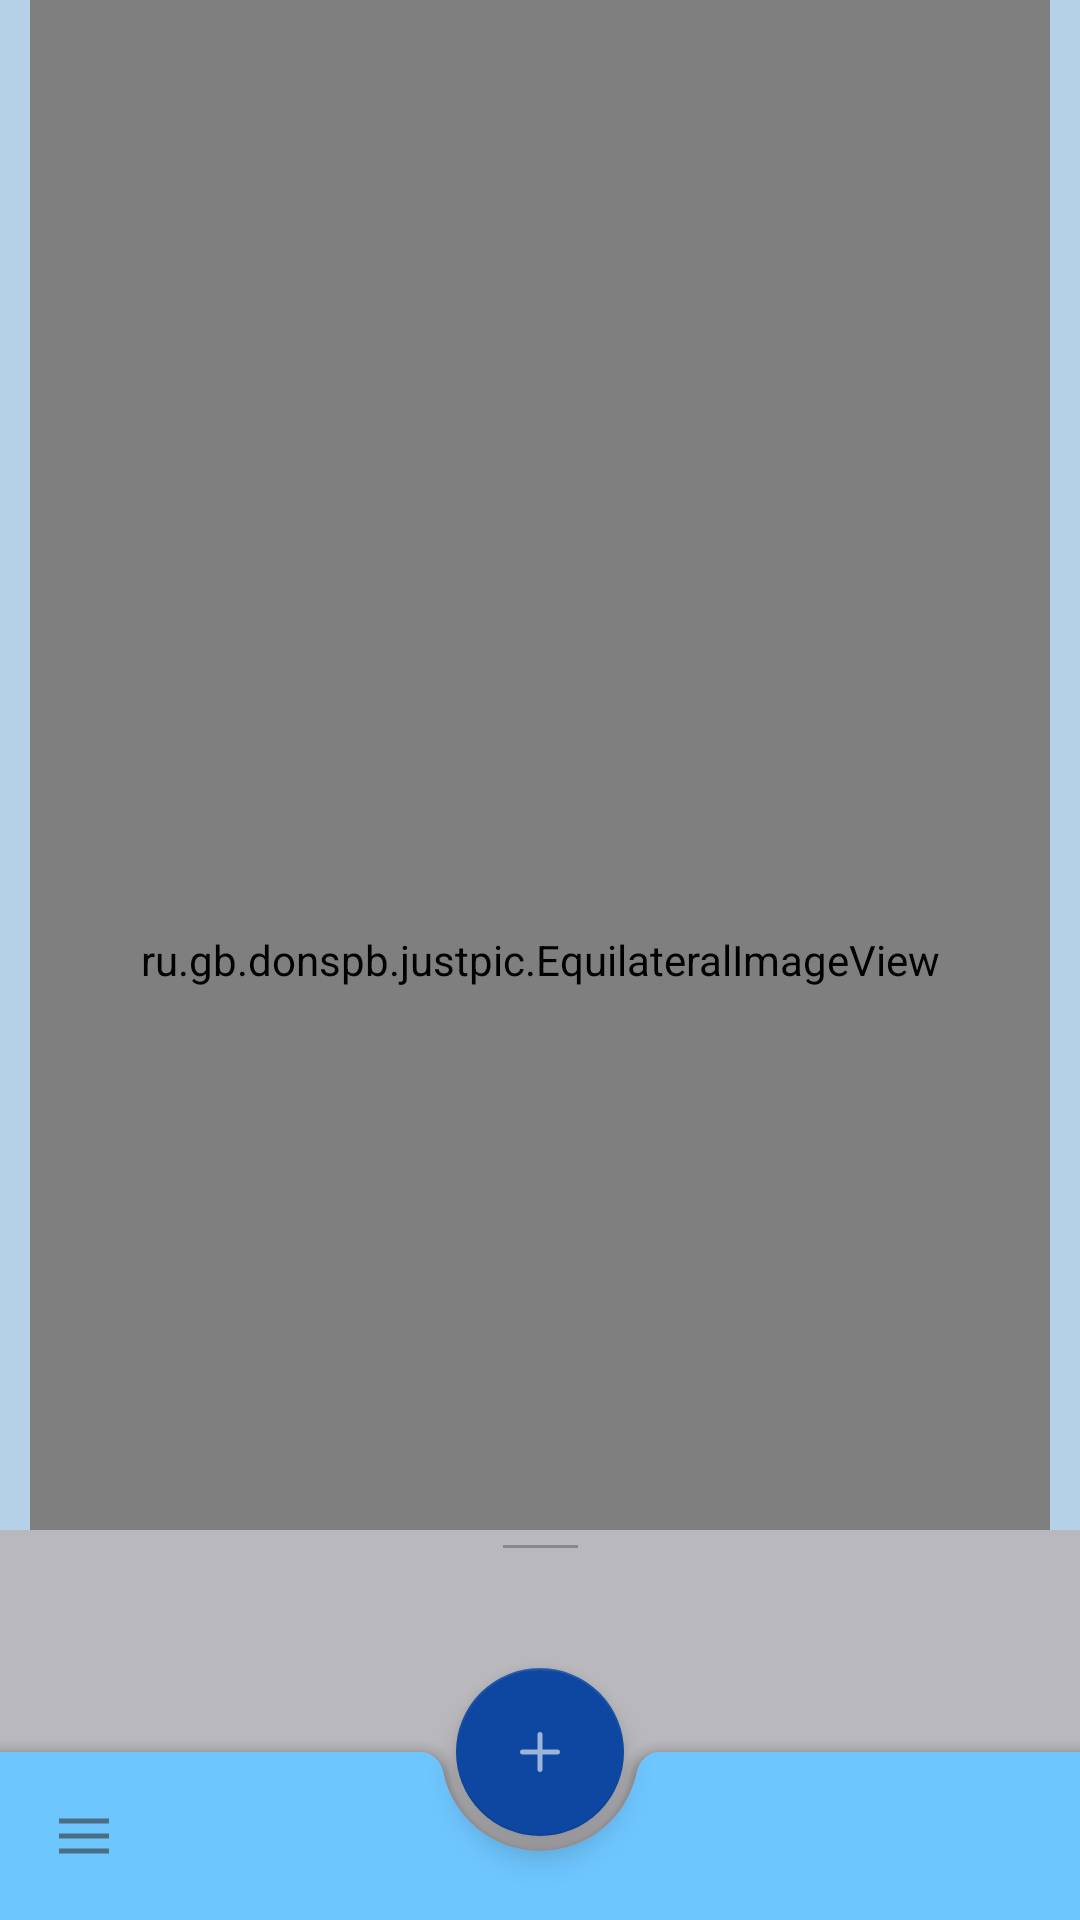

Screen size 1080×1920. Icon name, then its center in pixels as point (x, y):
plus sign: point (540, 1752)
